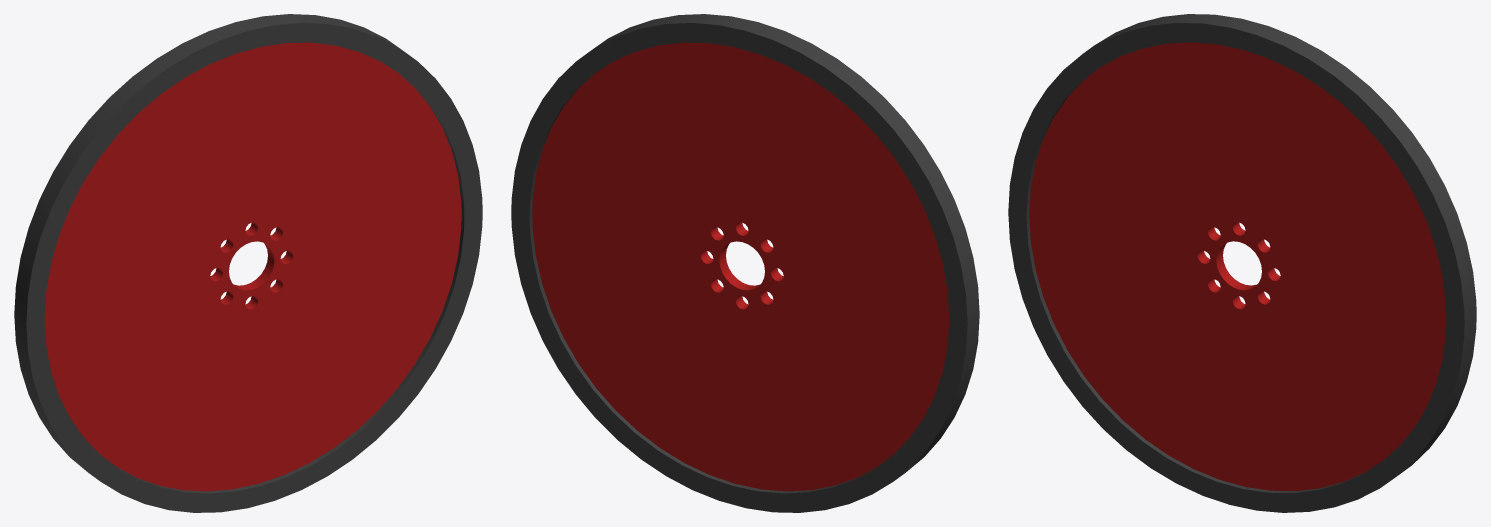
File: ROB-12435.obj
The picture shows the model from 3 angles, left to right: view 1: azimuth 30°, elevation 25°; view 2: azimuth 150°, elevation 25°; view 3: azimuth 330°, elevation 25°; orthographic projection.
Visible parts, largest first — view 1: mesh 2 Boss-Extrude1, mesh 1 RO; view 2: mesh 2 Boss-Extrude1, mesh 1 RO; view 3: mesh 2 Boss-Extrude1, mesh 1 RO.
Part boxes in pixels (<box>): mesh 2 Boss-Extrude1: <box>44,42,461,491</box>; mesh 1 RO: <box>14,14,482,512</box>; mesh 2 Boss-Extrude1: <box>532,42,949,491</box>; mesh 1 RO: <box>511,14,979,512</box>; mesh 2 Boss-Extrude1: <box>1029,42,1446,490</box>; mesh 1 RO: <box>1008,14,1476,512</box>.
Size of the model in its own units: 0.127 by 0.1269 by 0.00584.
